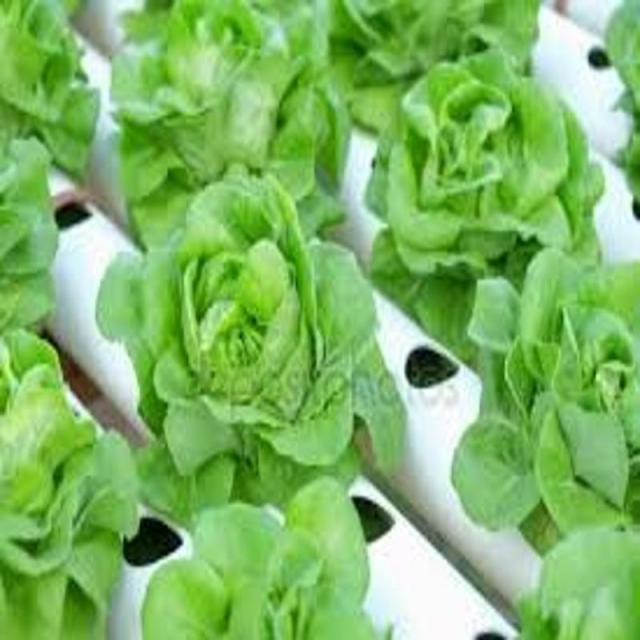Lettuce: (88, 163, 410, 505), (365, 45, 612, 347), (105, 0, 353, 250), (455, 246, 640, 556), (0, 323, 143, 640), (141, 483, 386, 640), (329, 0, 538, 138), (0, 0, 108, 165)
